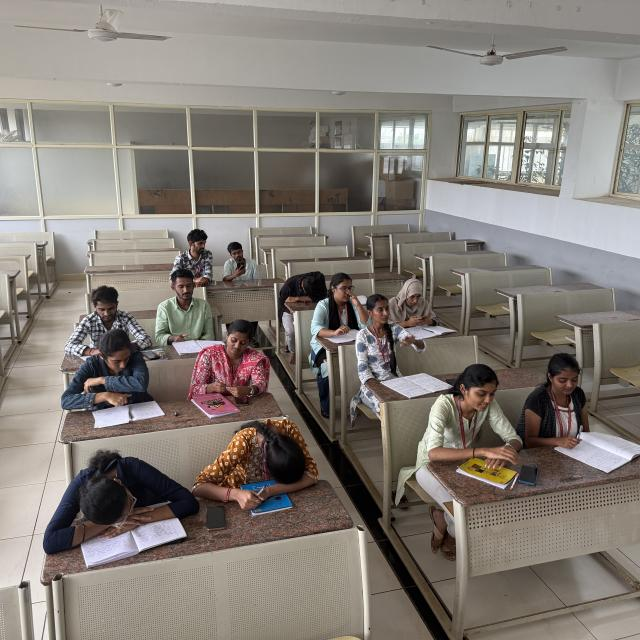Reading: (149, 262, 227, 360)
Sleeping: (42, 449, 195, 537), (206, 410, 328, 491), (275, 264, 329, 314)
Using Phone: (198, 316, 273, 402), (386, 274, 443, 332), (222, 232, 265, 283)
Writing: (521, 348, 622, 460), (315, 270, 369, 346)
